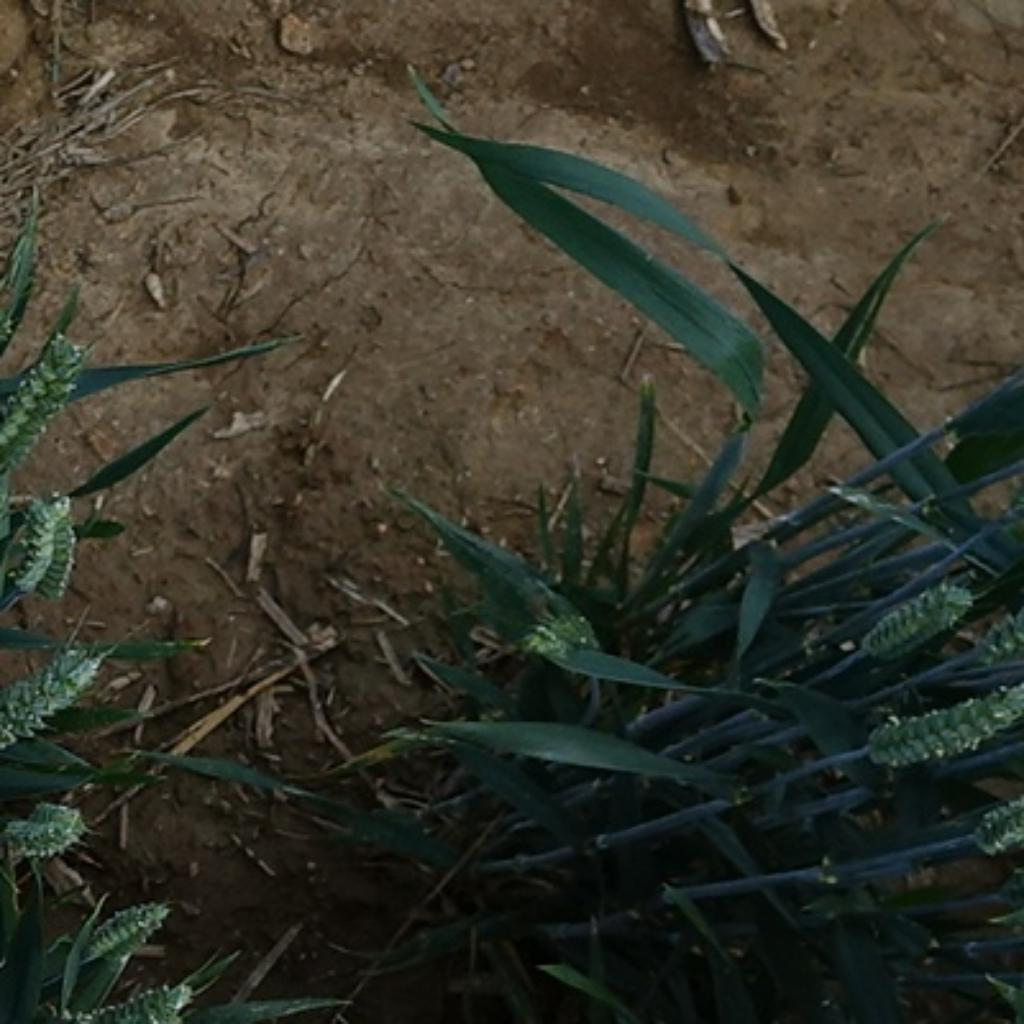0-0: (862, 683, 1024, 785), (0, 320, 94, 471), (0, 637, 107, 768), (857, 573, 972, 660), (17, 496, 87, 606), (53, 977, 207, 1024), (81, 890, 176, 957), (0, 793, 92, 860), (501, 611, 600, 668), (962, 793, 1024, 875), (25, 1021, 151, 1024)
